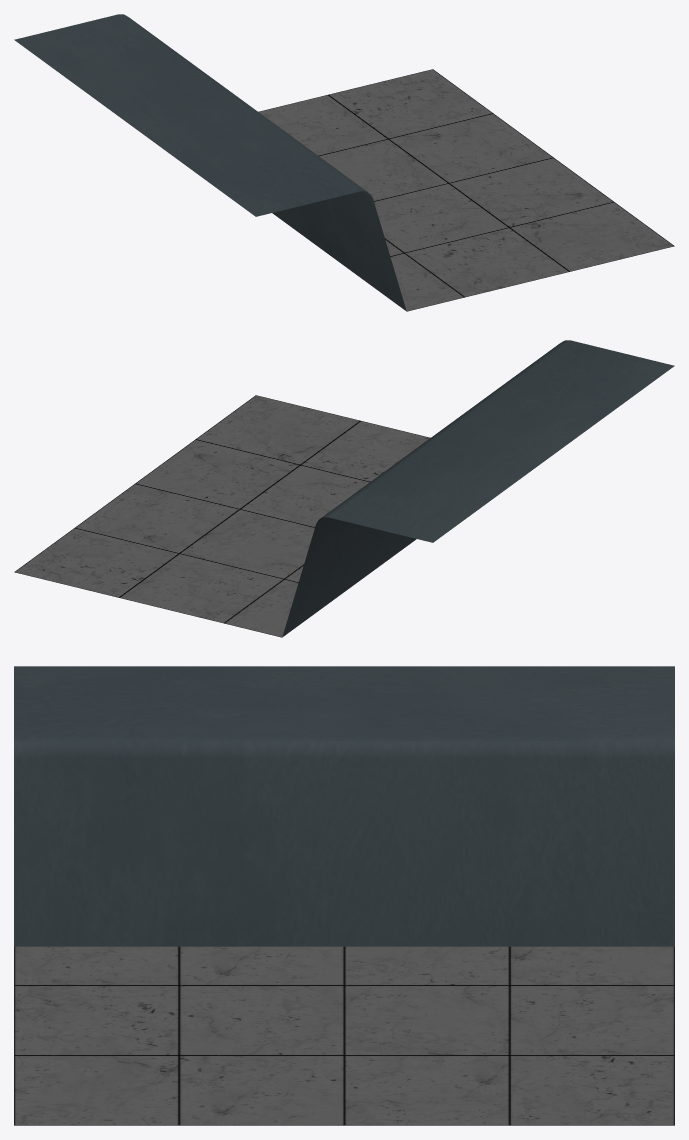
Rendered from tileset.fbx_Collection_8.fbx.
3 renders of one model, top to bottom at view 1: azimuth 30°, elevation 25°; view 2: azimuth 150°, elevation 25°; view 3: azimuth 270°, elevation 25°, orthographic. The views are drawn at different scales.
Visible parts, largest first — view 1: 31_0_08_MSH; view 2: 31_0_08_MSH; view 3: 31_0_08_MSH.
Part boxes in pixels (left/top/right/bottom): 31_0_08_MSH: left=14, top=14, right=674, bottom=311; 31_0_08_MSH: left=14, top=340, right=674, bottom=637; 31_0_08_MSH: left=14, top=666, right=674, bottom=1125.
Bounding box in the file's own units: 500 × 150 × 500.
